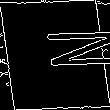N_W: (3, 33, 107, 77)
